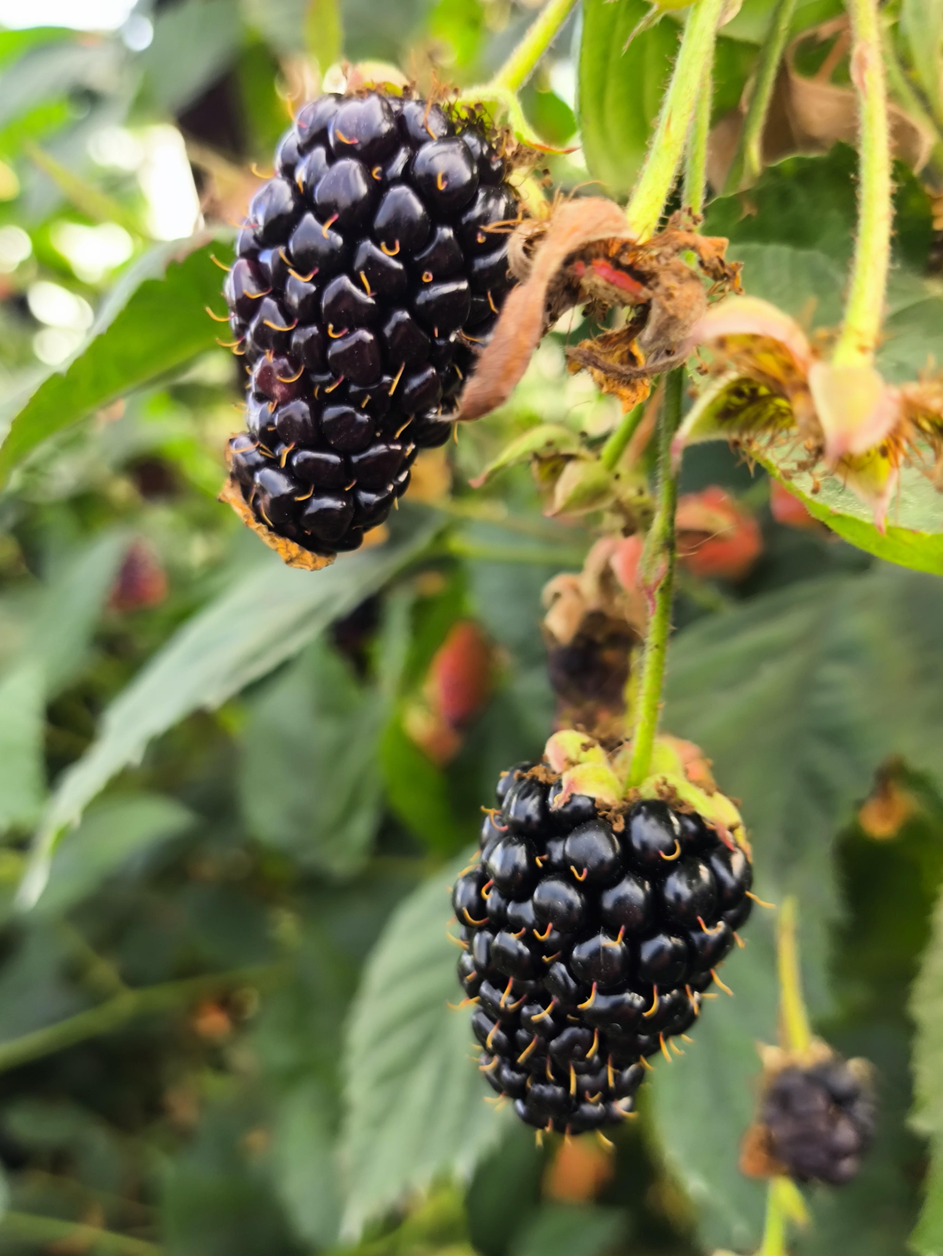maduro: (230, 90, 516, 558), (463, 762, 743, 1146)
